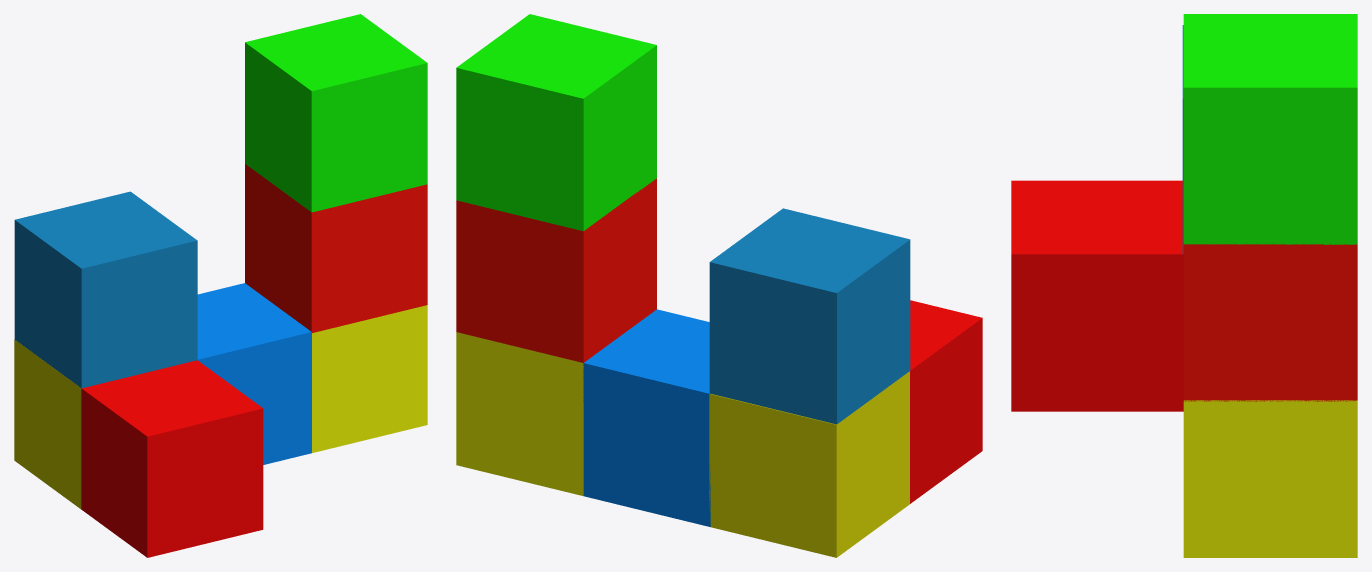
3 renders of one model, left to right at view 1: azimuth 30°, elevation 25°; view 2: azimuth 150°, elevation 25°; view 3: azimuth 270°, elevation 25°, orthographic. The views are drawn at different scales.
Visible parts, largest first — view 1: Cube.006, Cube.002, Cube.003, Cube.005, Cube.004, Cube.001, Cube; view 2: Cube.006, Cube.003, Cube, Cube.005, Cube.001, Cube.004, Cube.002; view 3: Cube.006, Cube.002, Cube.004, Cube.005, Cube.003.
Part boxes in pixels (<box>): Cube.006: <box>245,14,427,212</box>; Cube.002: <box>81,360,263,557</box>; Cube.003: <box>14,191,197,388</box>; Cube.005: <box>245,164,427,332</box>; Cube.004: <box>312,305,427,452</box>; Cube.001: <box>197,283,311,464</box>; Cube: <box>14,339,81,509</box>; Cube.006: <box>456,14,656,231</box>; Cube.003: <box>709,208,910,424</box>; Cube: <box>709,371,909,557</box>; Cube.005: <box>456,178,656,362</box>; Cube.001: <box>583,309,710,526</box>; Cube.004: <box>456,332,583,495</box>; Cube.002: <box>910,300,982,503</box>; Cube.006: <box>1183,14,1357,244</box>; Cube.002: <box>1011,180,1183,411</box>; Cube.004: <box>1183,400,1357,557</box>; Cube.005: <box>1183,244,1357,401</box>; Cube.003: <box>1182,25,1183,254</box>.
Size of the model in its own units: 598 by 597 by 398.
